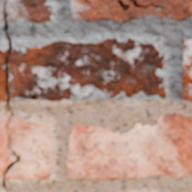brick: (67, 115, 191, 178), (72, 0, 191, 21), (183, 40, 191, 100)
broken_brick: (10, 38, 167, 102), (7, 115, 53, 180), (7, 0, 52, 23), (0, 118, 14, 178), (0, 49, 6, 103), (0, 0, 3, 21)
crack: (0, 0, 23, 191), (117, 0, 167, 12)
